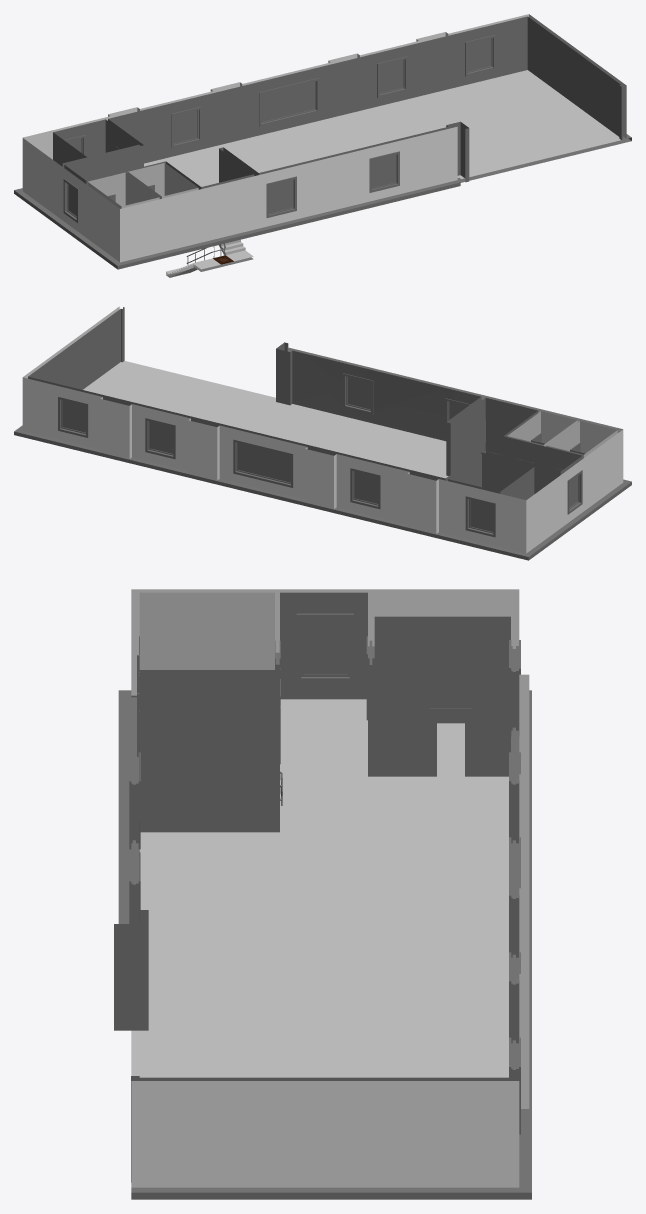
The model's file is Floor_Last_A.fbx.
The picture shows the model from 3 angles, top to bottom: view 1: azimuth 30°, elevation 25°; view 2: azimuth 150°, elevation 25°; view 3: azimuth 270°, elevation 25°; orthographic projection. The views are drawn at different scales.
Parts seen in each view (by area): view 1: Floor_Last_A; view 2: Floor_Last_A; view 3: Floor_Last_A.
Part boxes in pixels (x1,y1,x2,y2): Floor_Last_A: (14,14,631,277); Floor_Last_A: (14,306,631,560); Floor_Last_A: (114,589,531,1199).
Size of the model in its own units: 3523 by 741 by 1238.
